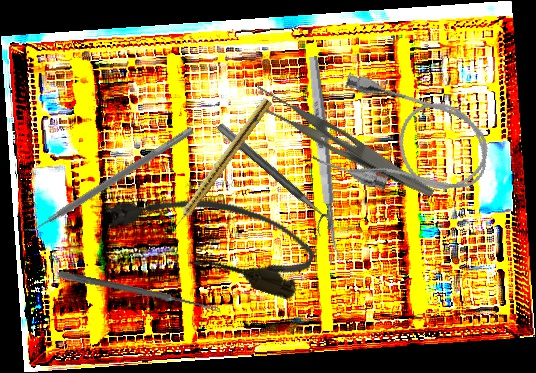Cannula: (96, 165, 322, 304), (308, 68, 501, 217)
Dressing Forceps: (245, 82, 445, 199)
Fixation Ring: (207, 121, 338, 240)
Handpiece: (167, 95, 273, 234)
Spatula Surgical: (20, 119, 195, 241)
Surgical Spoon: (306, 55, 342, 265), (57, 270, 223, 314)
